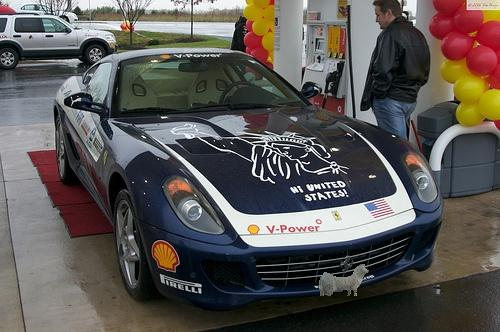tampered: (320, 265, 369, 296)
